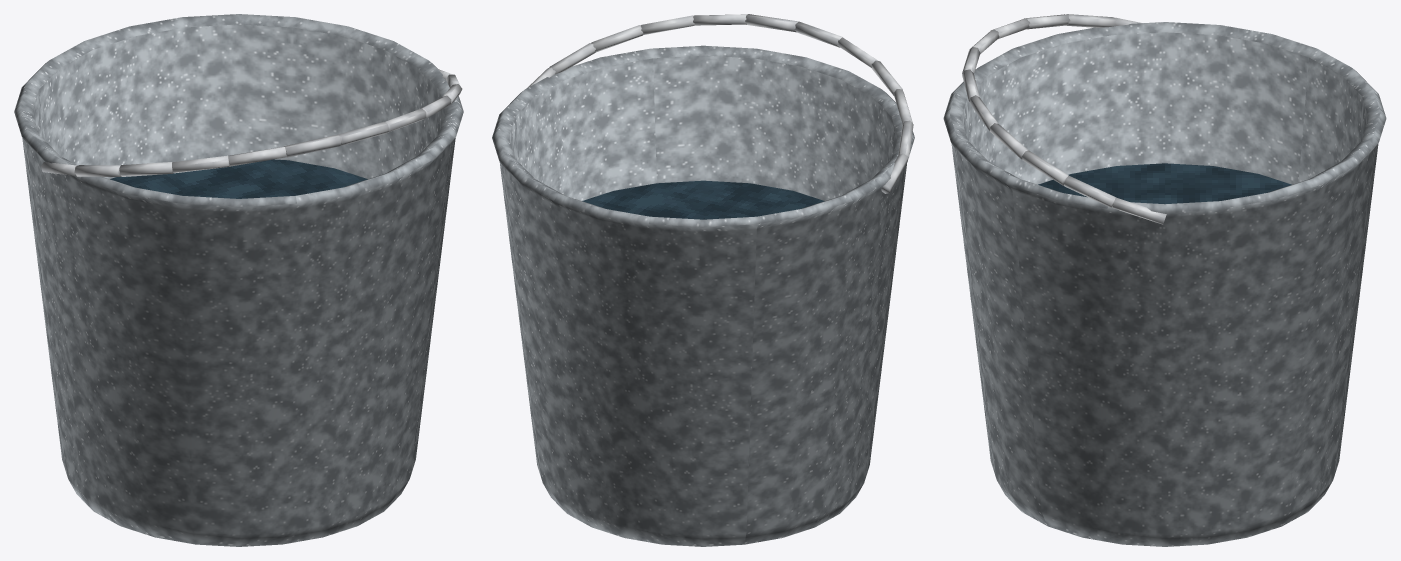
Rendered from cubeta.obj.
3 renders of one model, left to right at view 1: azimuth 30°, elevation 25°; view 2: azimuth 150°, elevation 25°; view 3: azimuth 270°, elevation 25°, orthographic. The views are drawn at different scales.
Parts seen in each view (by area): view 1: Cubeta, Agua, Asa; view 2: Cubeta, Agua, Asa; view 3: Cubeta, Agua, Asa.
Part boxes in pixels (bbox=[...]): Cubeta: bbox=[14, 14, 463, 546]; Agua: bbox=[110, 159, 367, 198]; Asa: bbox=[41, 69, 462, 176]; Cubeta: bbox=[492, 45, 914, 546]; Agua: bbox=[582, 180, 824, 219]; Asa: bbox=[527, 14, 913, 193]; Cubeta: bbox=[943, 22, 1386, 546]; Agua: bbox=[1038, 163, 1291, 204]; Asa: bbox=[962, 14, 1166, 224].
Bounding box in the file's own units: 0.3054 × 0.3046 × 0.3.
3 materials, 3 textured.
